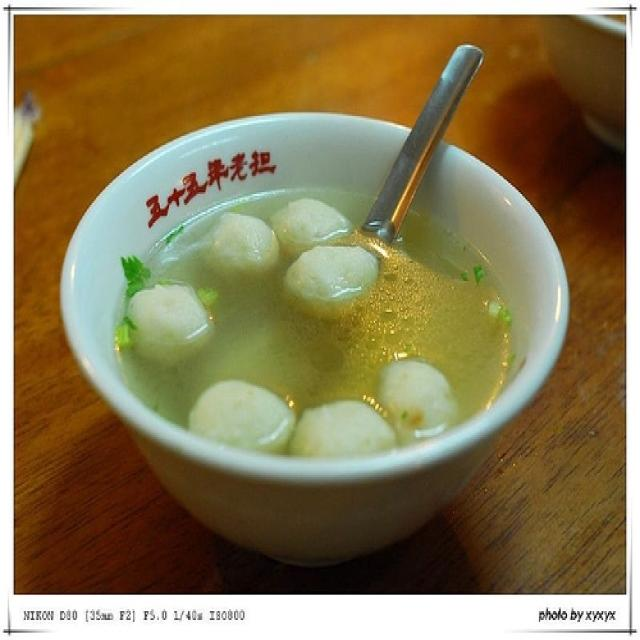熟制海鲜: (75, 87, 539, 519)
